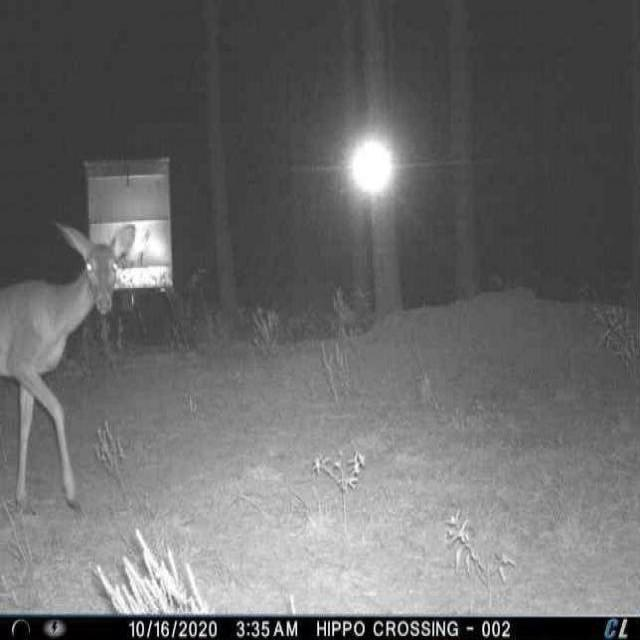deer: (0, 220, 144, 516)
